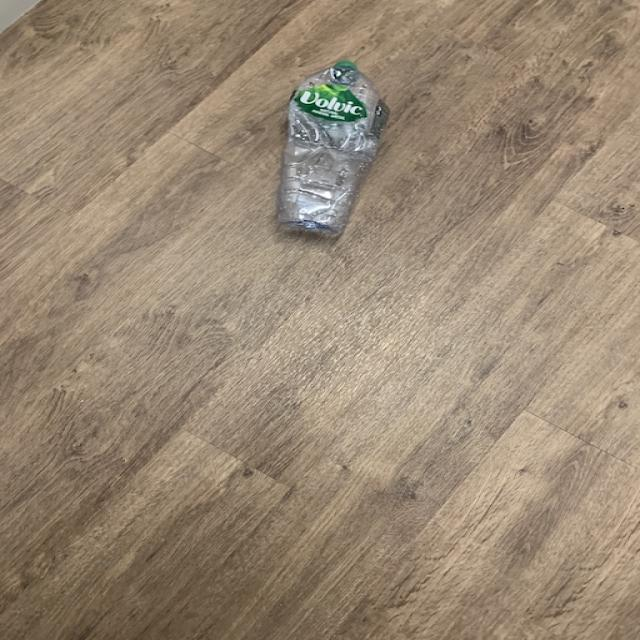Waste: (278, 60, 389, 234)
